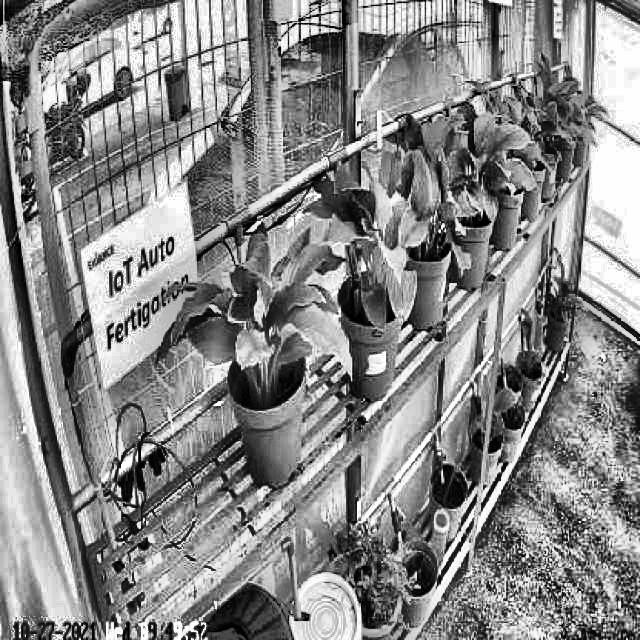plants: (159, 216, 353, 396), (304, 178, 418, 327), (379, 112, 472, 280), (428, 96, 538, 235)
